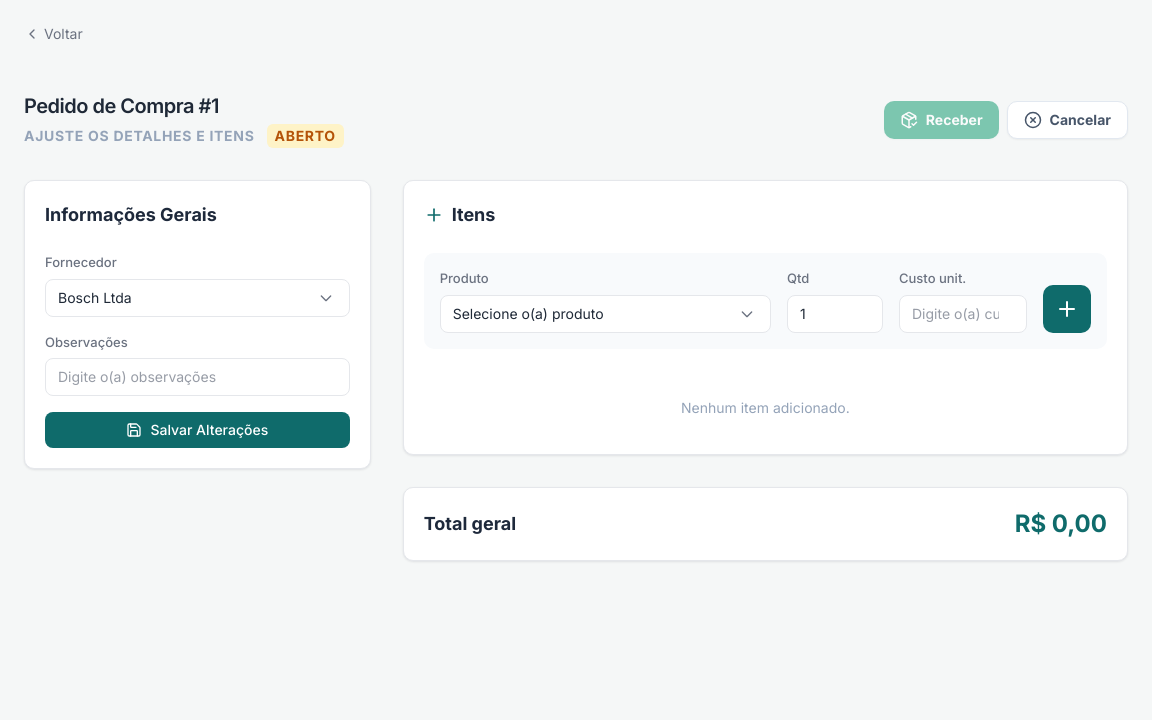
Scenario: <PurchaseOrderEdit> — estado aberto › adiciona um item e recarrega o pedido com o item novo
Select "Filtro de óleo (estoque: 5)" in the dropdown below "Produto" at [605, 314], box [440,294,771,332]
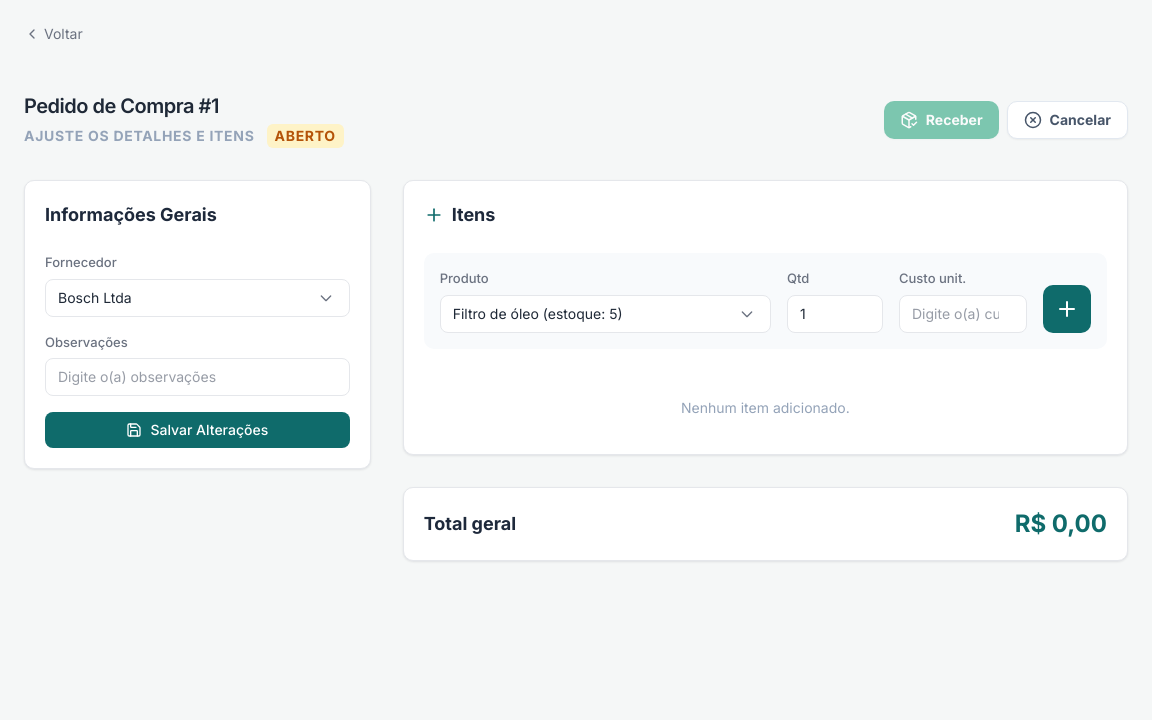
Type "9.90" into the number field with placeholder "Digite o(a) custo unit." at [963, 314], box [899,294,1027,332]
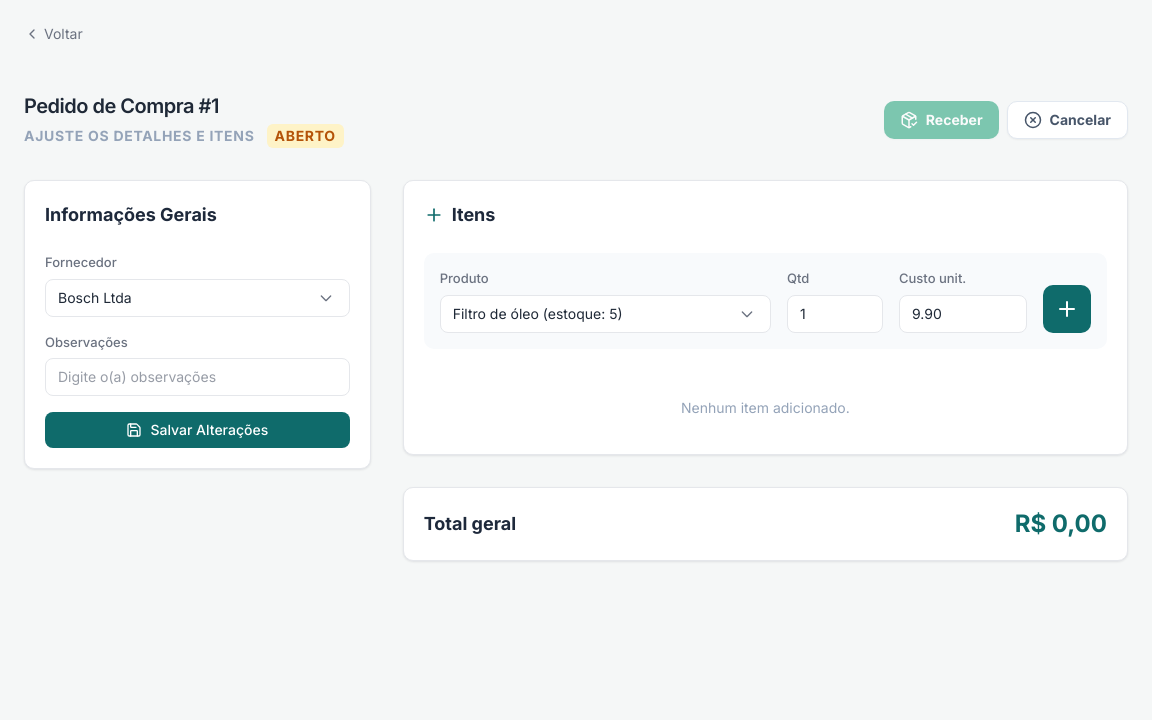
Submit the form with placeholder "Digite o(a) custo unit.", box [424,253,1107,348]
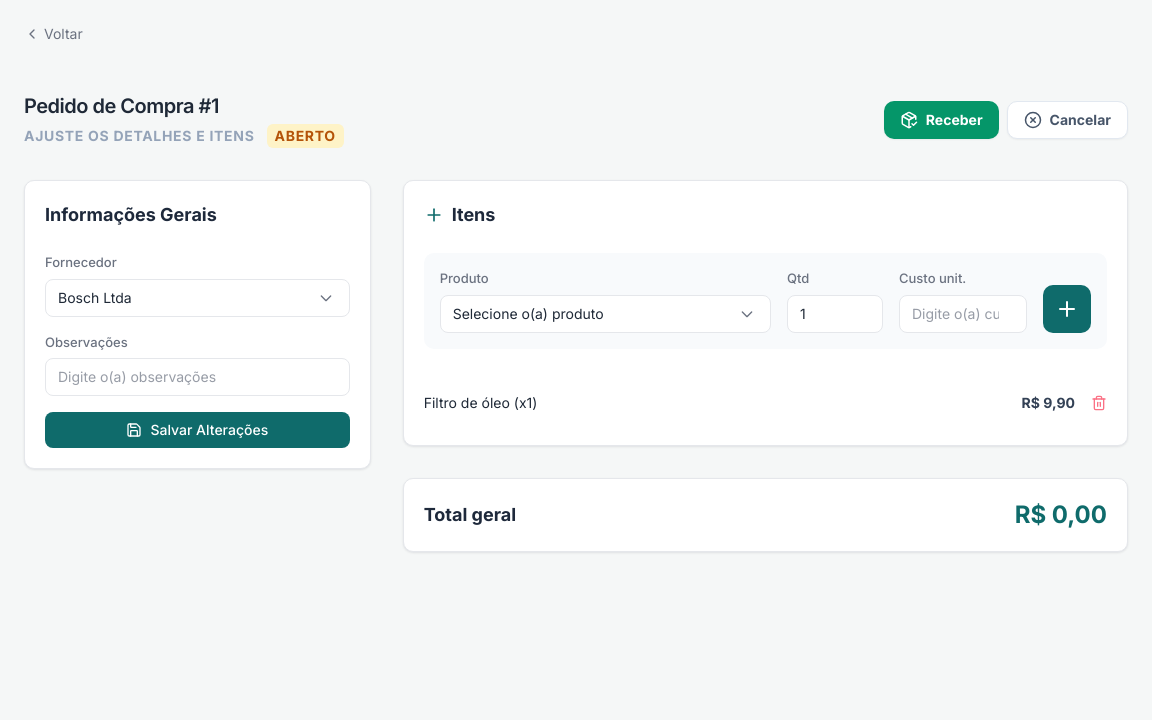
Expected: the text "Filtro de óleo (x1)" is shown, [424,392,537,412]
